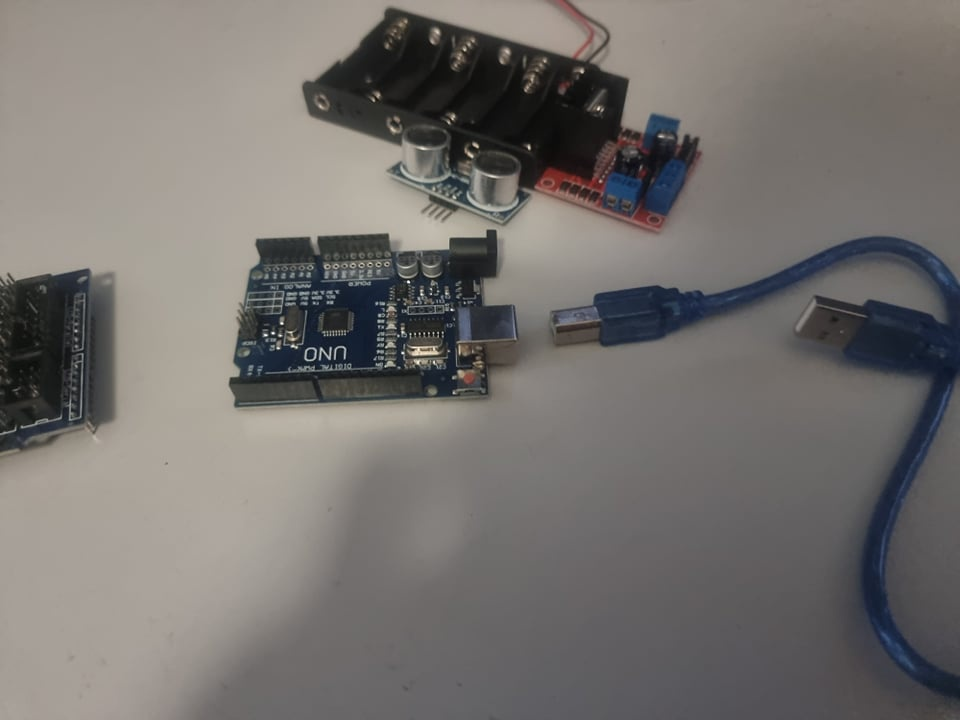5V EXPANSION: (1, 266, 93, 448)
BATTERY BOX: (298, 1, 544, 151)
MOTOR: (535, 62, 706, 237)
SENSOR: (381, 124, 527, 222)
UNO R3: (221, 224, 525, 413)
